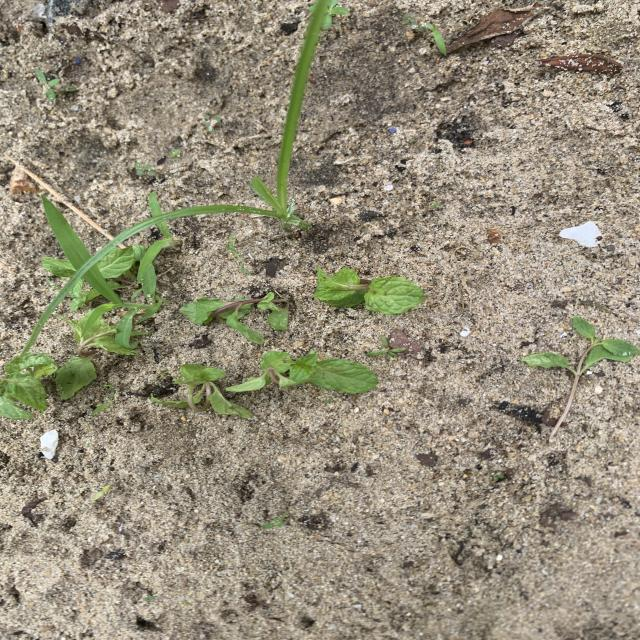crop: (521, 317, 640, 438), (55, 312, 138, 399), (226, 350, 378, 394), (180, 292, 288, 344), (151, 364, 253, 419), (314, 267, 425, 315), (0, 349, 58, 420), (97, 246, 141, 278), (70, 281, 100, 312), (42, 257, 75, 279)
weed: (149, 177, 311, 233), (42, 196, 122, 305), (81, 302, 161, 348), (138, 326, 149, 336), (130, 335, 138, 343)
